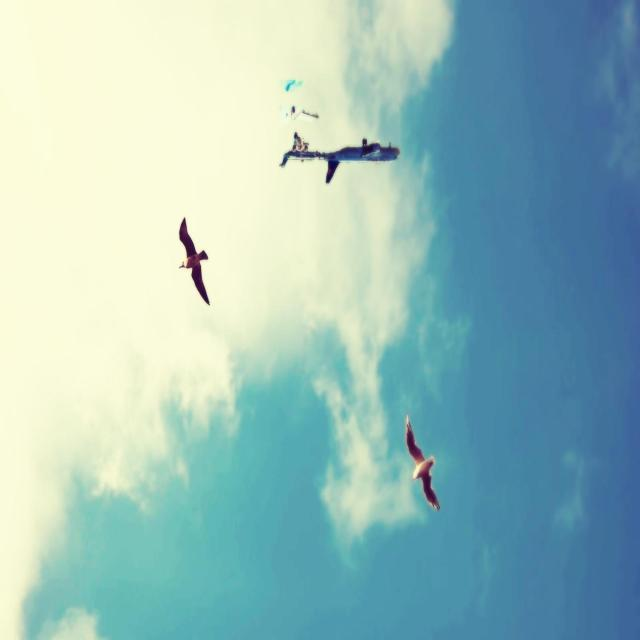airplane: (279, 131, 400, 184), (281, 101, 320, 123), (279, 72, 304, 94)
